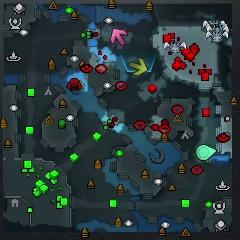p2: (196, 145, 217, 161)
x1: (111, 28, 128, 47)
x2: (131, 59, 147, 76)
